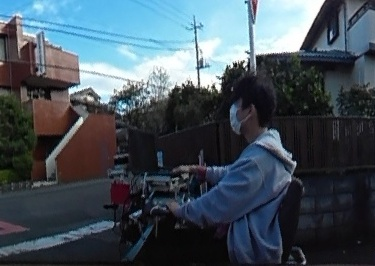person: (170, 72, 294, 266)
